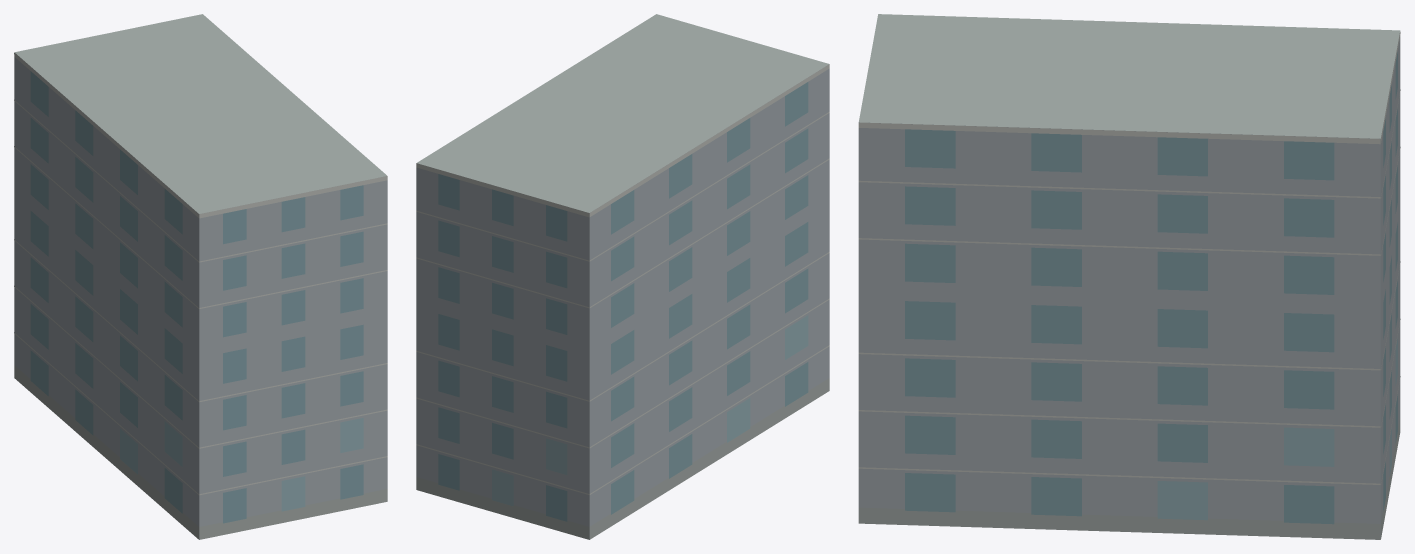
File: survey-upis-33045920.glb
3 renders of one model, left to right at view 1: azimuth 30°, elevation 25°; view 2: azimuth 150°, elevation 25°; view 3: azimuth 270°, elevation 25°, orthographic. The views are drawn at different scales.
Parts seen in each view (by area): view 1: survey-upis-33045920.tmp; view 2: survey-upis-33045920.tmp; view 3: survey-upis-33045920.tmp.
Boxes of the visible parts, box(x1,y1,x2,y2) form: survey-upis-33045920.tmp: box(14, 14, 387, 539); survey-upis-33045920.tmp: box(416, 14, 829, 539); survey-upis-33045920.tmp: box(858, 14, 1400, 539).
Size of the model in its own units: 12.1 by 18.1 by 22.18.
